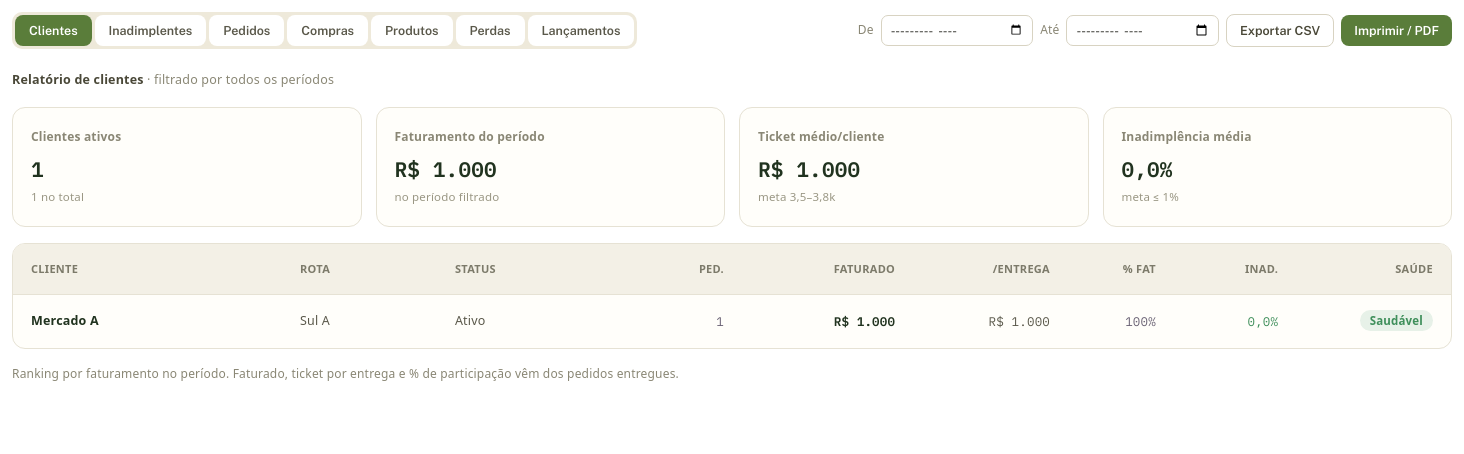
RelatoriosTela — inadimplentes vazio › sem cliente em atraso, mostra a mensagem dedicada
This screenshot has width=1464, height=454.
Expected: the text "Mercado A" is shown, x1=31 y1=312 x2=99 y2=330
Click the button "Inadimplentes": (150, 30) x1=95 y1=15 x2=206 y2=46
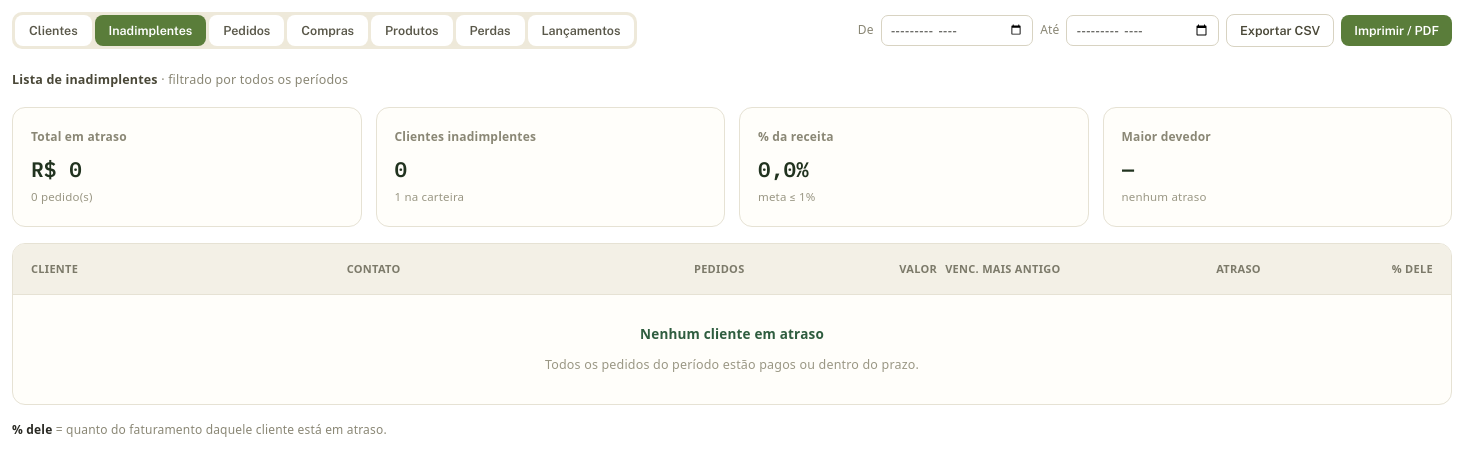
Result: the text "Nenhum cliente em atraso" is shown at x1=640 y1=326 x2=824 y2=344
